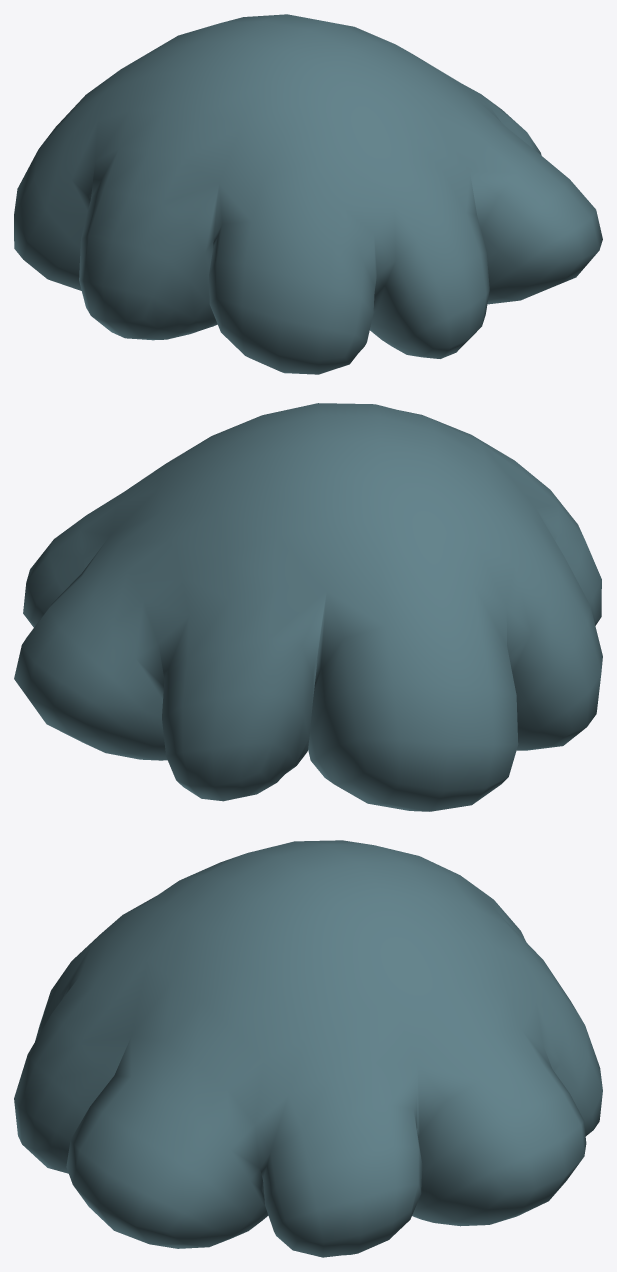
Rendered from Bush_B_03.fbx.
3 views of the same model, one above another, from view 1: azimuth 30°, elevation 25°; view 2: azimuth 150°, elevation 25°; view 3: azimuth 270°, elevation 25° (orthographic). The views are drawn at different scales.
Parts seen in each view (by area): view 1: Bush_B_03_LOD0; view 2: Bush_B_03_LOD0; view 3: Bush_B_03_LOD0.
Boxes of the visible parts, x1,y1,x2,y2 form: Bush_B_03_LOD0: (14, 14, 602, 374); Bush_B_03_LOD0: (14, 403, 602, 811); Bush_B_03_LOD0: (14, 840, 602, 1257).
Size of what is drawn, in the model's own units: 408 by 222 by 394.
